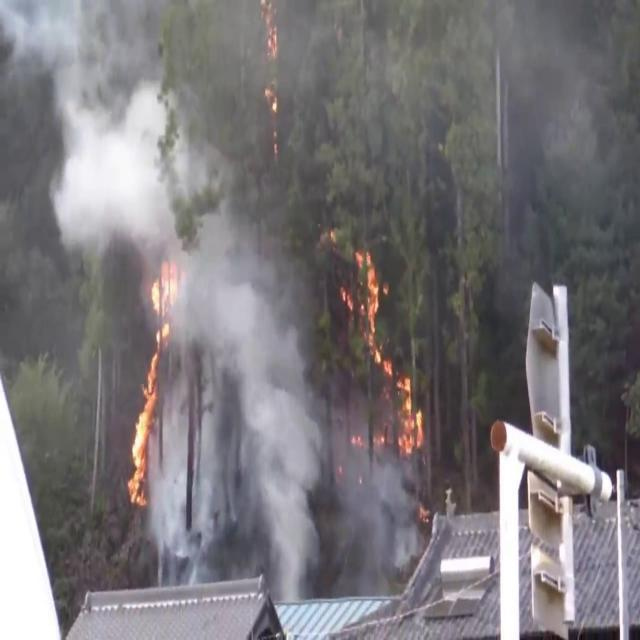Fire: (332, 236, 426, 474), (96, 290, 162, 602)
Smoke: (1, 2, 234, 321), (159, 172, 323, 575), (446, 0, 640, 283), (318, 385, 431, 583)
